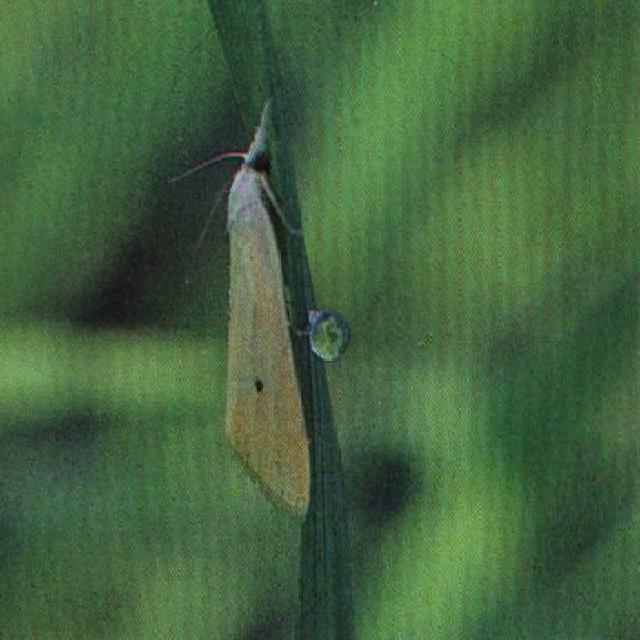stem-borer: (203, 90, 312, 512)
